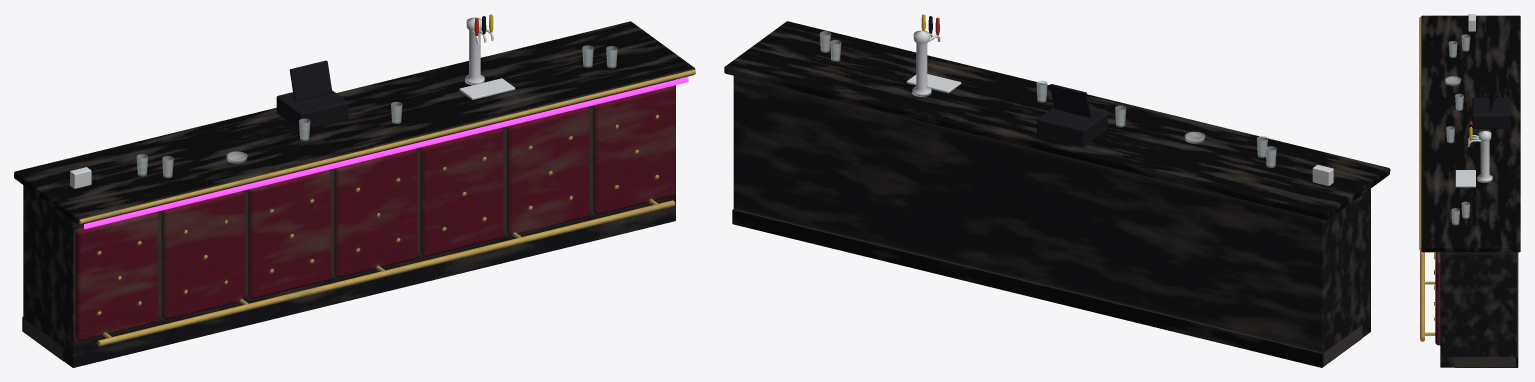
The model's file is klub_bar.glb.
3 renders of one model, left to right at view 1: azimuth 30°, elevation 25°; view 2: azimuth 150°, elevation 25°; view 3: azimuth 270°, elevation 25°, orthographic. The views are drawn at different scales.
Visible parts, largest first — view 1: Bar, Sprzet, SwiatloLed; view 2: Bar, Sprzet; view 3: Bar, Sprzet.
Part boxes in pixels (x1,y1,x2,y2): Bar: (14, 21, 695, 367); Sprzet: (70, 14, 617, 188); SwiatloLed: (84, 77, 688, 229); Bar: (724, 21, 1390, 367); Sprzet: (819, 14, 1333, 185); Bar: (1419, 15, 1520, 367); Sprzet: (1445, 14, 1510, 225).
Bounding box in the file's own units: 4.3 × 1.55 × 0.796.
8 materials, 1 textured.
